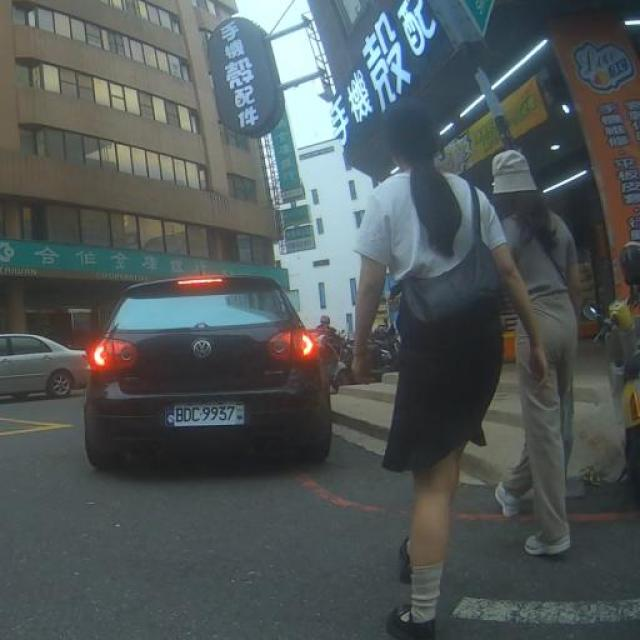illegalparking: (84, 271, 330, 470), (0, 332, 88, 398)
